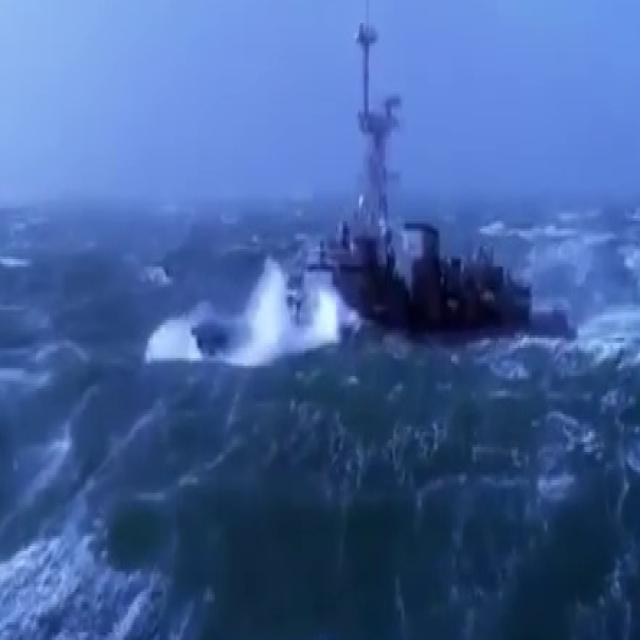houseboat: (201, 70, 571, 374)
